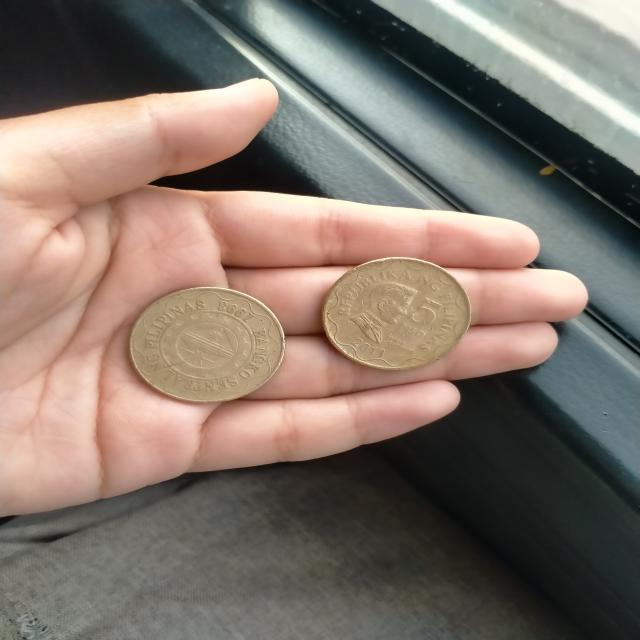5_Old_Back: (127, 283, 295, 401)
5_Old_Front: (388, 288, 443, 346)
